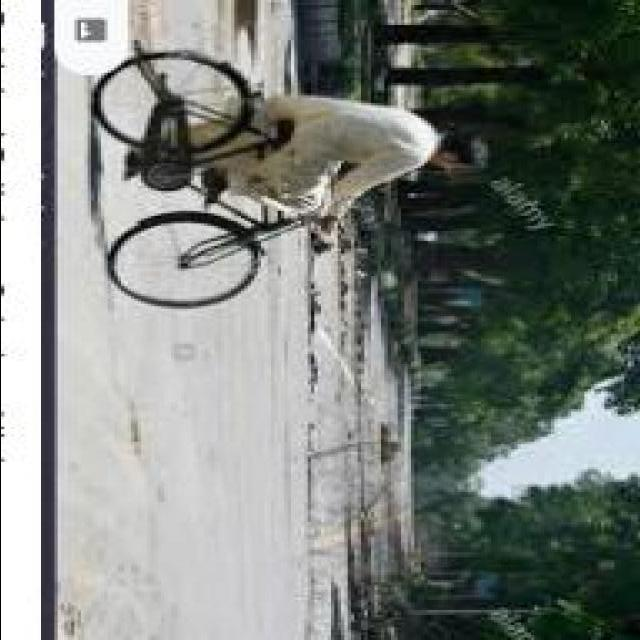bicycle: (94, 49, 308, 313)
